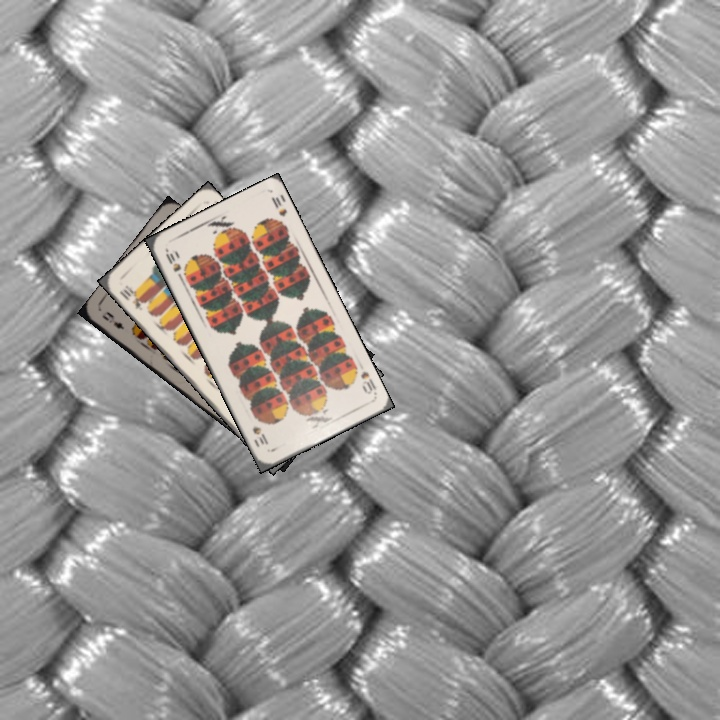E10: (115, 281, 148, 313)
E9: (98, 307, 127, 332)
S10: (161, 245, 186, 283), (357, 367, 379, 397)
